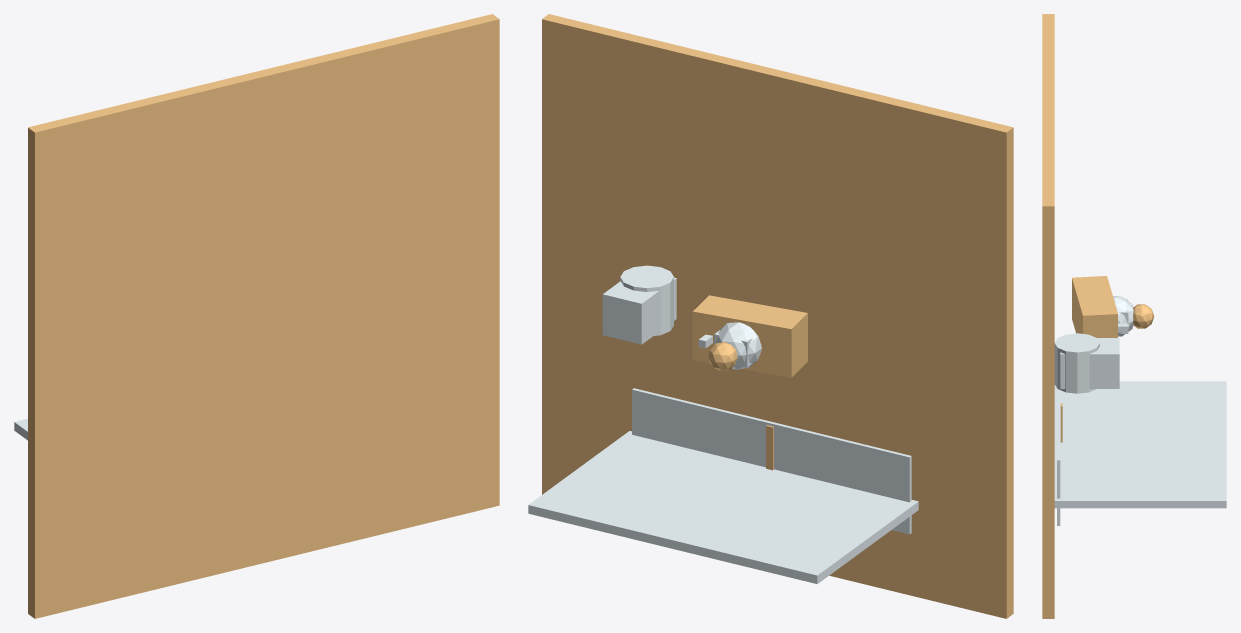
Rendered from street-hoops-kit.glb.
3 renders of one model, left to right at view 1: azimuth 30°, elevation 25°; view 2: azimuth 150°, elevation 25°; view 3: azimuth 270°, elevation 25°, orthographic. The views are drawn at different scales.
Visible parts, largest first — view 1: ENVIRONMENT_GROUND; view 2: ENVIRONMENT_GROUND, ENVIRONMENT_GATE, PROFILE_ENVIRONMENT_DETAIL, PLAYER_BODY, PROFILE_OBSTACLE_DETAIL, OBSTACLE, PLAYER_CORE, PROFILE_PLAYER_HEAD; view 3: ENVIRONMENT_GATE, ENVIRONMENT_GROUND, PLAYER_BODY, OBSTACLE, PROFILE_OBSTACLE_DETAIL, PROFILE_ENVIRONMENT_DETAIL, PLAYER_CORE, PROFILE_PLAYER_HEAD.
Part boxes in pixels (left/top/right/bottom): ENVIRONMENT_GROUND: left=28, top=14, right=499, bottom=618; ENVIRONMENT_GROUND: left=542, top=14, right=1013, bottom=618; ENVIRONMENT_GATE: left=528, top=431, right=918, bottom=584; PROFILE_ENVIRONMENT_DETAIL: left=632, top=388, right=911, bottom=534; PLAYER_BODY: left=692, top=295, right=807, bottom=377; PROFILE_OBSTACLE_DETAIL: left=602, top=277, right=676, bottom=344; OBSTACLE: left=620, top=265, right=673, bottom=335; PLAYER_CORE: left=714, top=322, right=761, bottom=369; PROFILE_PLAYER_HEAD: left=708, top=342, right=737, bottom=371; ENVIRONMENT_GATE: left=1054, top=381, right=1226, bottom=508; ENVIRONMENT_GROUND: left=1042, top=14, right=1054, bottom=618; PLAYER_BODY: left=1072, top=276, right=1117, bottom=337; OBSTACLE: left=1054, top=333, right=1099, bottom=393; PROFILE_OBSTACLE_DETAIL: left=1060, top=338, right=1119, bottom=388; PROFILE_ENVIRONMENT_DETAIL: left=1057, top=388, right=1060, bottom=525; PLAYER_CORE: left=1113, top=296, right=1133, bottom=336; PROFILE_PLAYER_HEAD: left=1133, top=304, right=1154, bottom=328.
Size of what is drawn, in the model's own units: 9 by 9 by 3.64.
